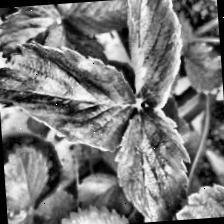Powdery Mildew Leaf: (0, 34, 141, 159), (125, 0, 187, 111)
